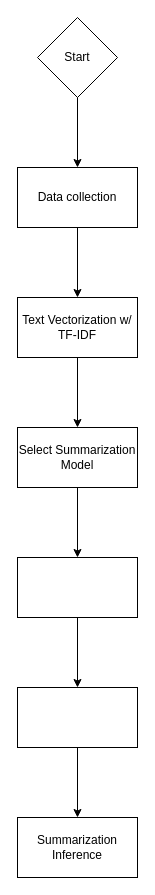
The diagram is 155 pixels wide and 895 high, and some of its shapes have lost their labels. Here are the shapes that lost their labels. From the top down, the centre of each, then its label:
(x=77, y=587): Train Model
(x=77, y=717): Evaluate Model
